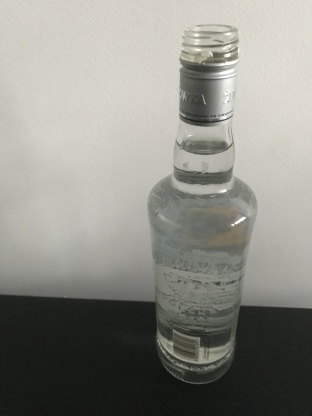nakretka: (176, 22, 240, 127)
